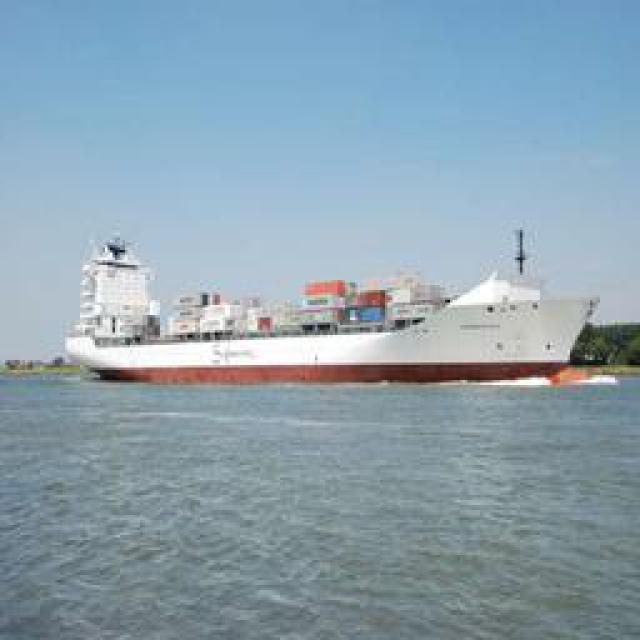Ship: (62, 251, 605, 391)
